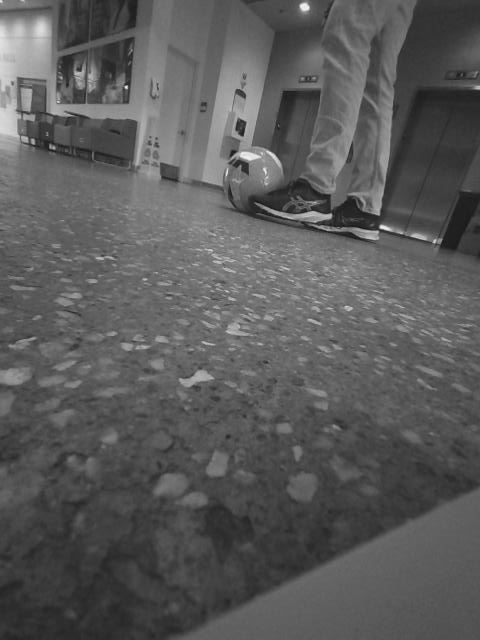ball: (290, 315, 371, 395)
